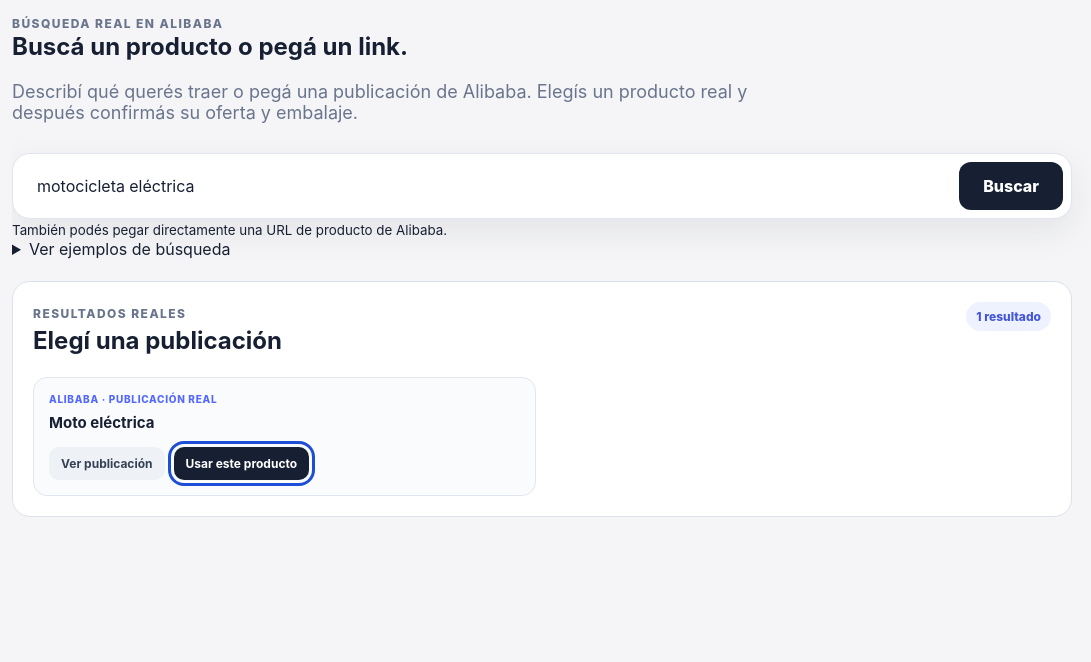
Test: stops a stalled extraction at the deadline while keeping the query and results
Click the button "Usar este producto": click(241, 464) [174,447,309,480]
Wait 30001 ms
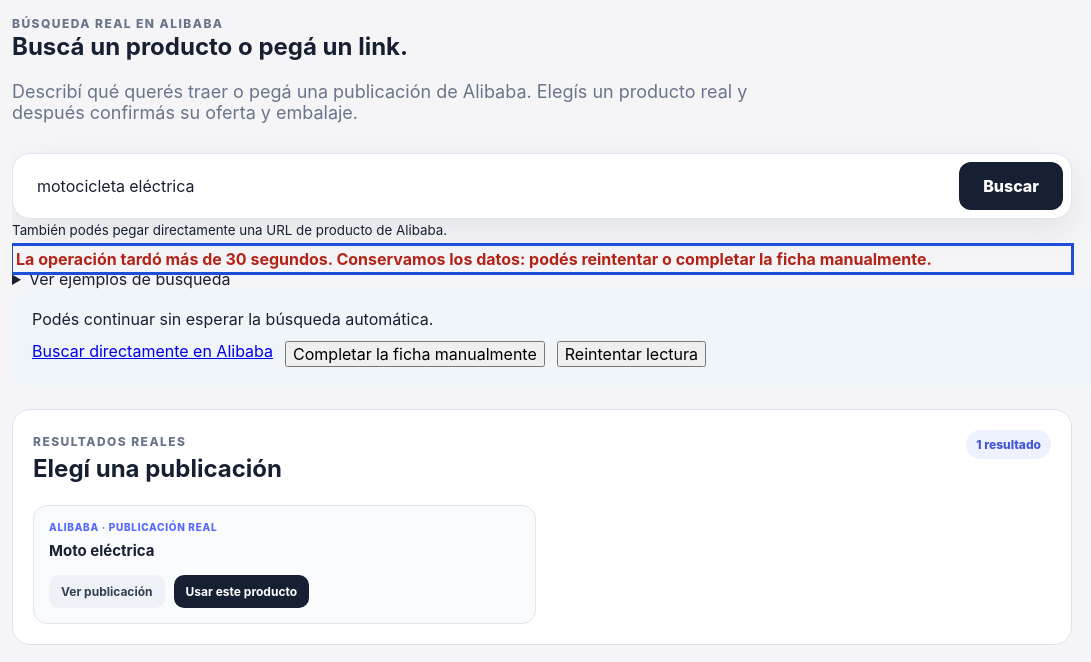
Check: the text "Moto eléctrica" is shown, box [49,541,154,560]
Check: the text "30 segundos" is shown, box [16,249,932,269]
Check: the text "Reintentar lectura" is shown, box [557,341,706,367]
